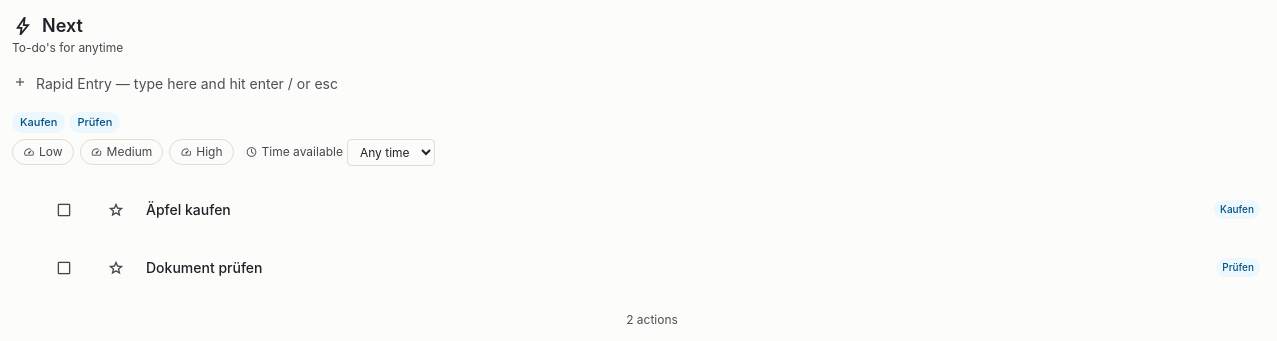
it: ActionList › type filter chips › clicking the active chip again deactivates the filter
Click the button with aria-label "Filter by type: Kaufen" at (39, 122), box [12,112,65,132]
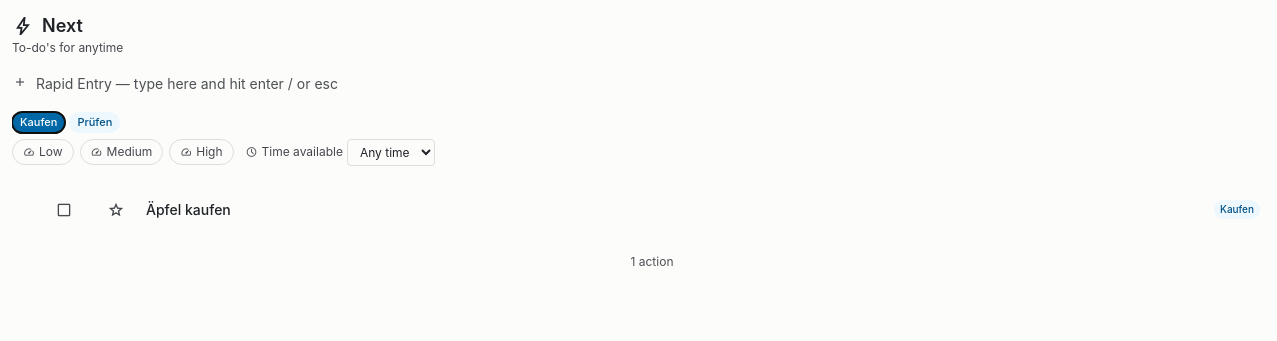
Check: the button "Dokument prüfen" is gone
Click the button "Kaufen" at (39, 122), box [12,112,65,132]
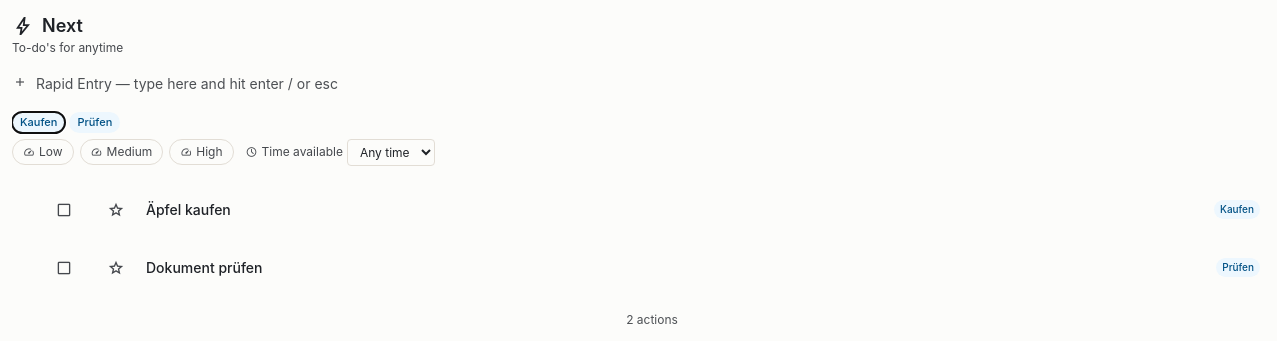
Check: the button "Dokument prüfen" is shown, box [146,258,1160,278]
